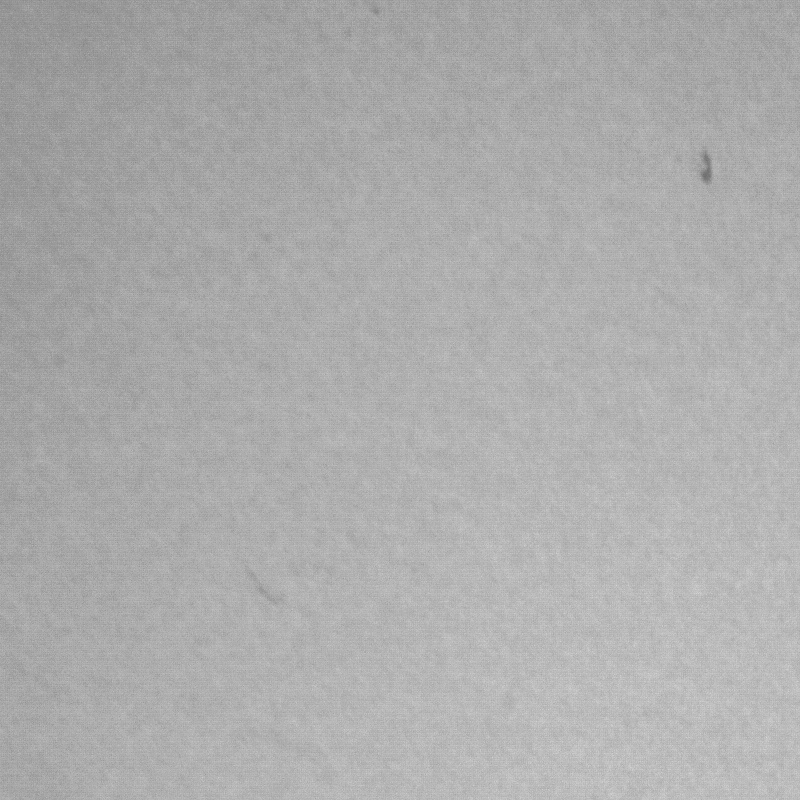defect: (245, 565, 288, 609), (350, 1, 394, 17), (698, 149, 715, 188)
